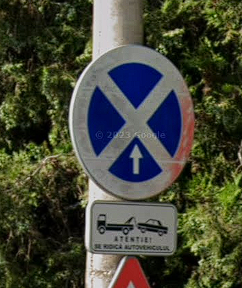oprirea_interzisa: (66, 41, 198, 201)
